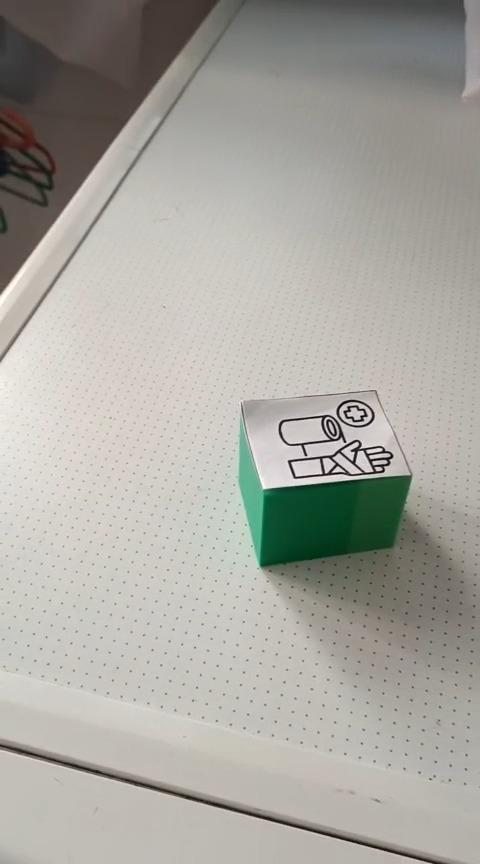Bandages: (238, 388, 412, 568)
